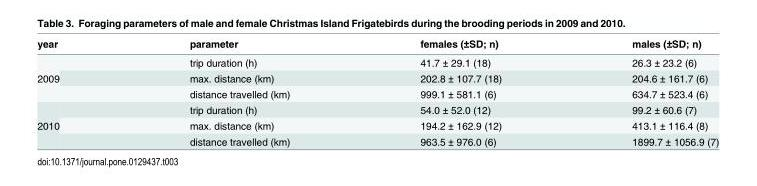table: (36, 37, 718, 146)
table column: (123, 37, 354, 146), (354, 37, 566, 146), (566, 37, 718, 146), (36, 37, 123, 146)
table column header: (36, 37, 718, 52)
table row: (36, 52, 718, 70), (36, 85, 718, 101), (36, 101, 718, 117), (36, 117, 718, 133), (36, 37, 718, 52), (36, 70, 718, 85), (36, 133, 718, 146)
table spanning cell: (36, 52, 123, 101), (36, 101, 123, 146)
